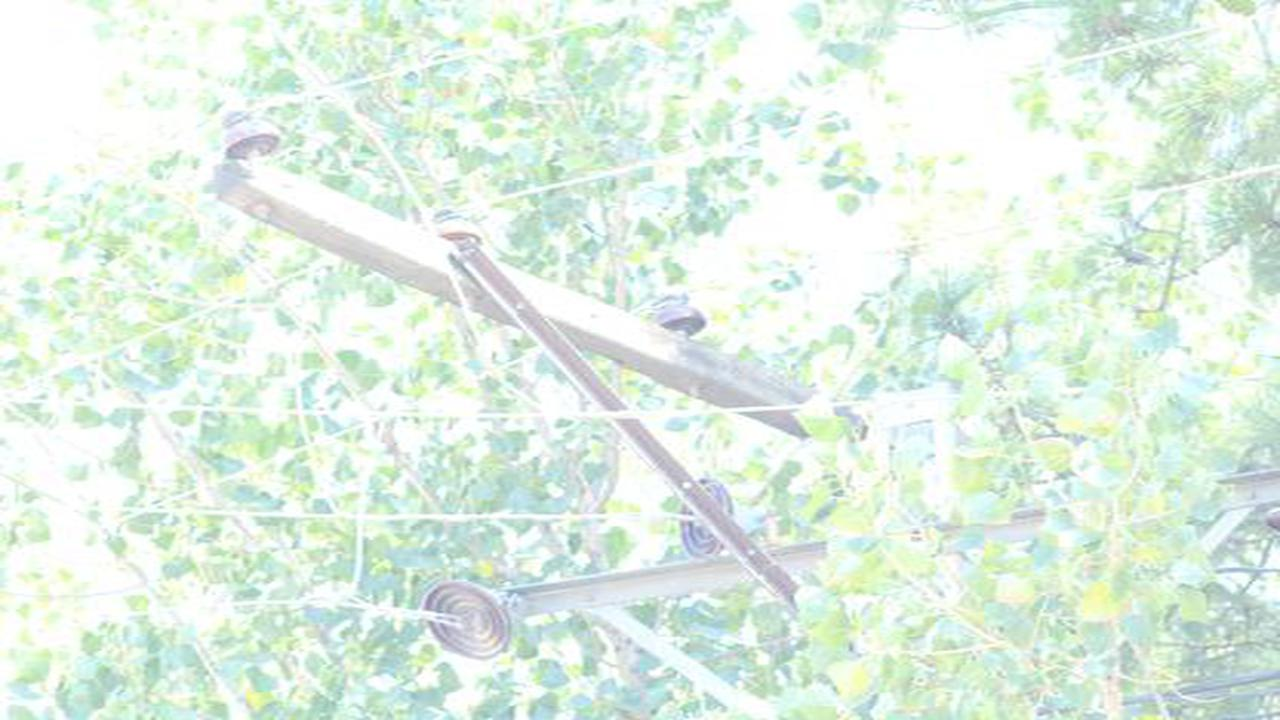insulator_disc: (421, 579, 514, 665), (675, 471, 738, 563)
insulator_pin: (221, 103, 279, 160), (651, 285, 709, 338), (433, 204, 484, 249)
